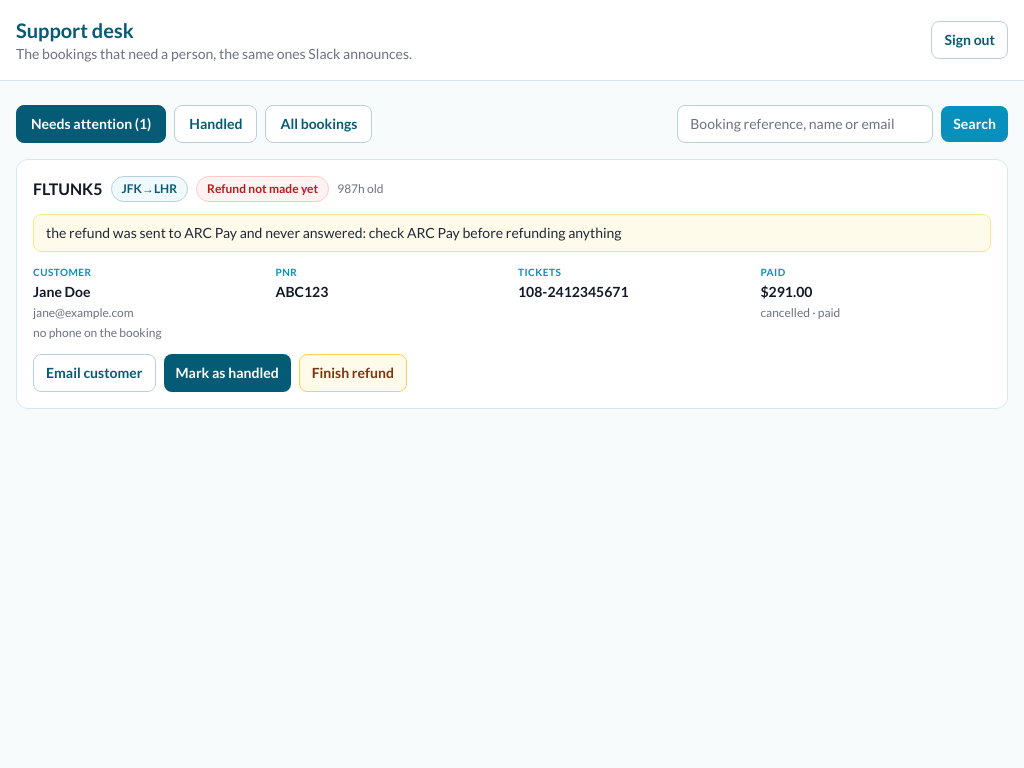
it: the desk › offers the whole payment when that is what the cancel decided, once ARC Pay has been asked
What coordinates should you click on to do the following:
click the button "Finish refund"
I would click on:
 (353, 373)
Its box is [299, 354, 407, 392].
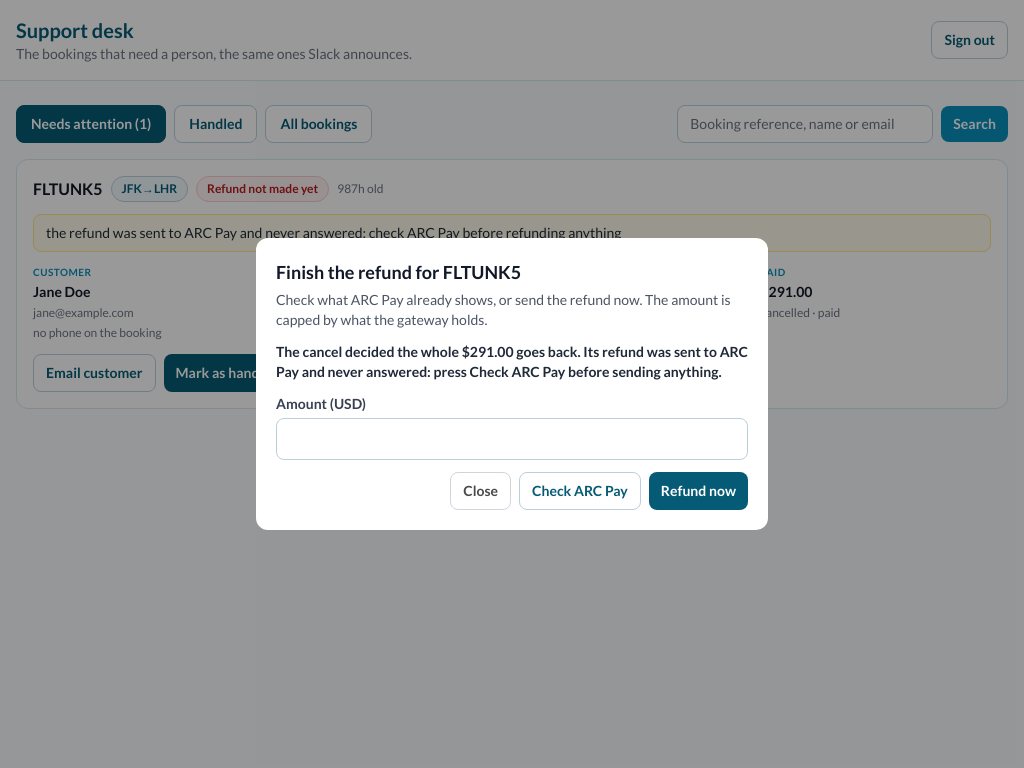
Expected: the field labelled "Amount (USD)" is empty, [276, 418, 748, 460]
What coordinates should you click on to do the following:
click the button "Check ARC Pay"
I would click on:
 (580, 491)
Its box is [519, 472, 641, 510].
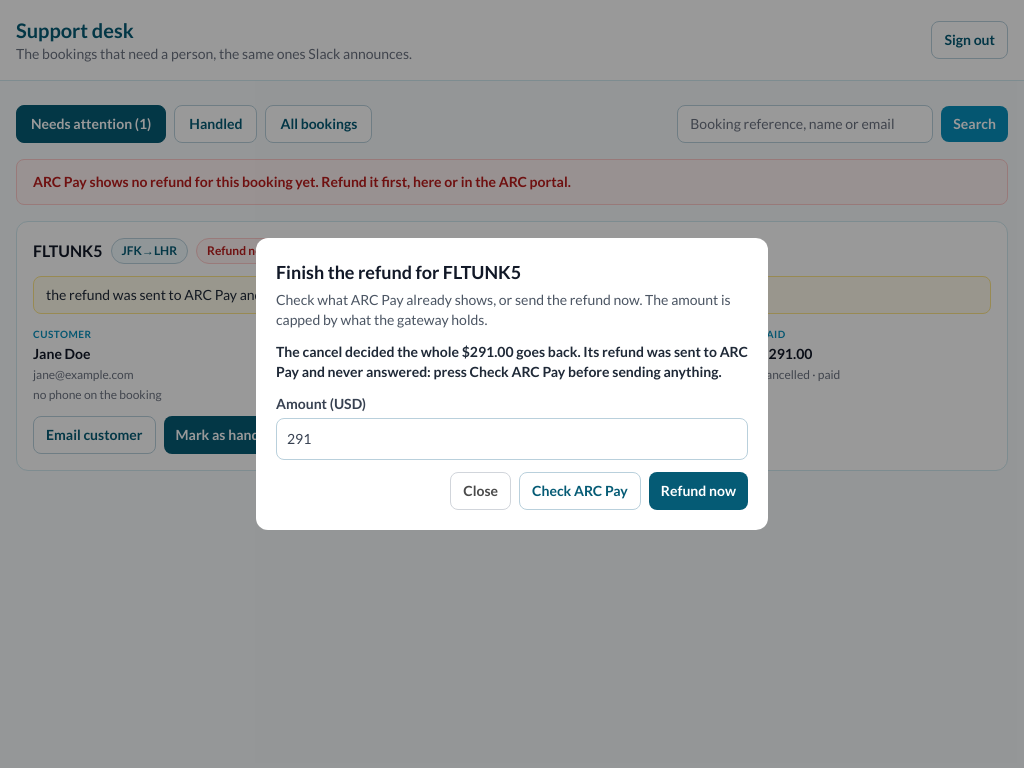
Now the field labelled "Amount (USD)" holds "291", box [276, 418, 748, 460]
